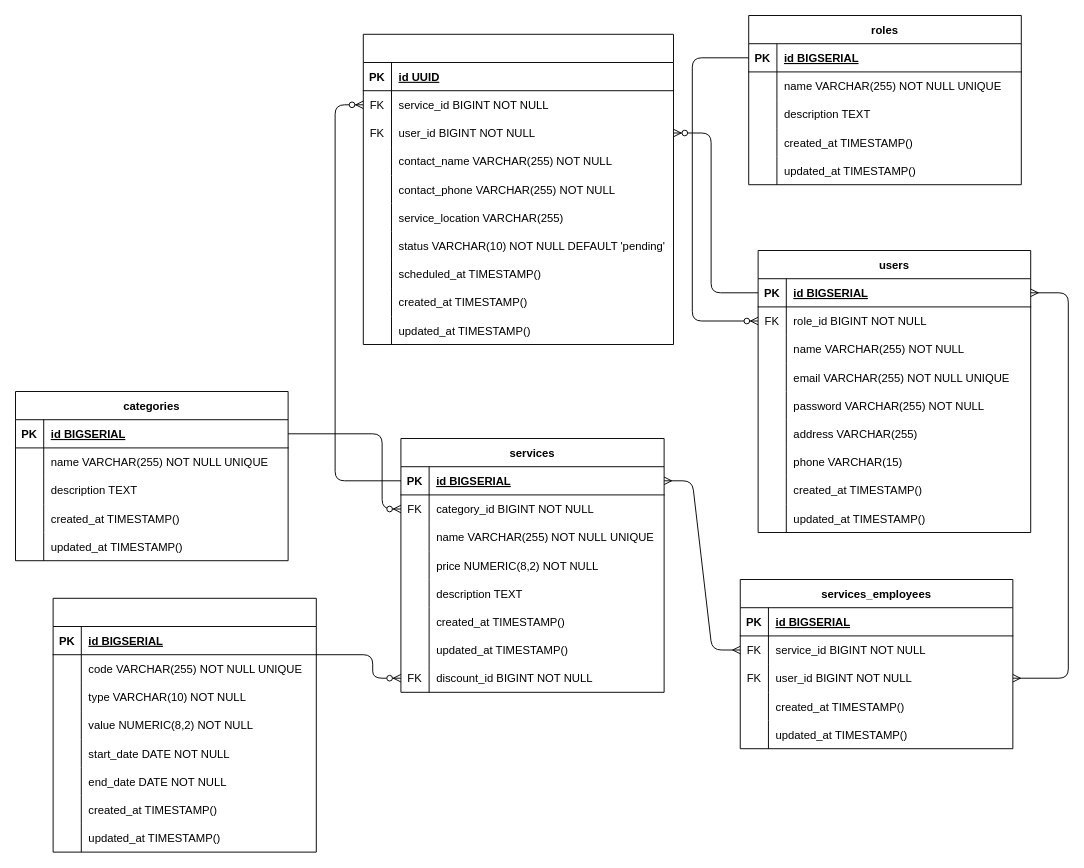
The diagram is 1084 pixels wide and 868 high, and some of its shapes have lost their labels. The box of each missing label's shape, as (x1, y1, x2, y2) in pixels:
bookings: (362, 33, 674, 345)
discounts: (52, 597, 316, 852)
